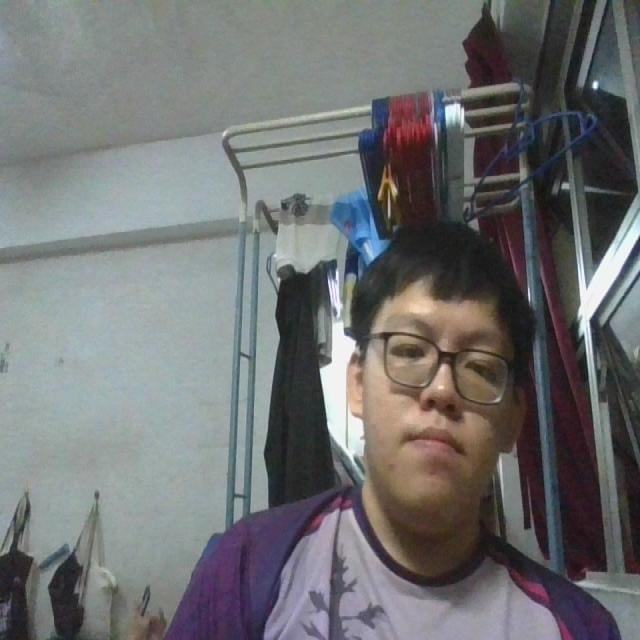person_without_labcoat: (166, 222, 619, 639)
